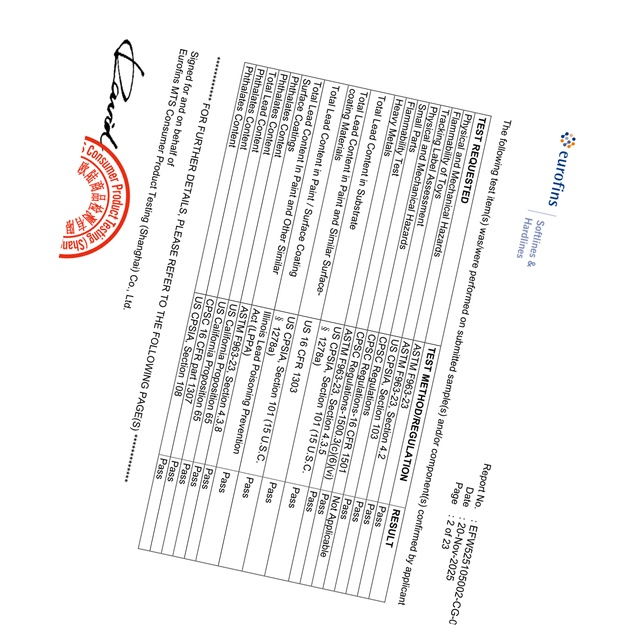eurofins: (545, 129, 578, 211)
